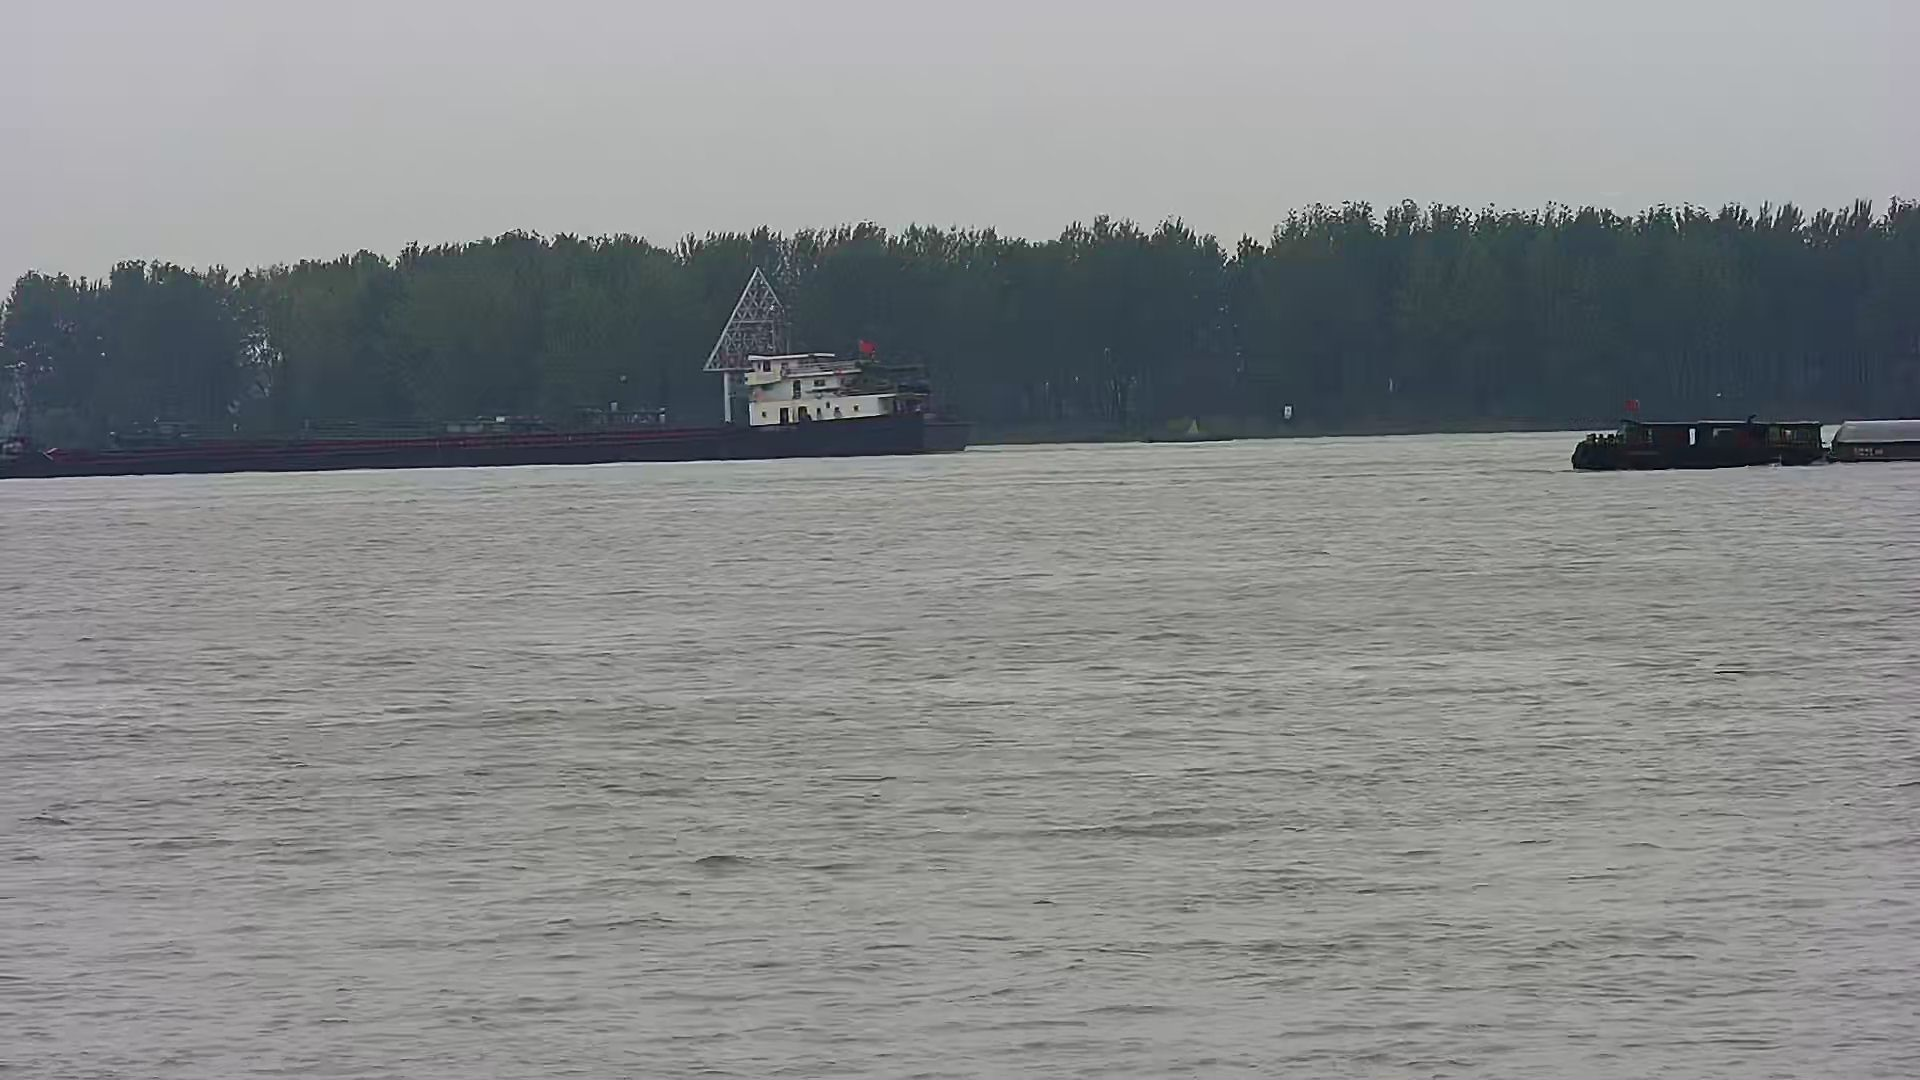boat: (1142, 417, 1236, 442)
ship: (1, 342, 972, 476), (1572, 394, 1920, 475)
